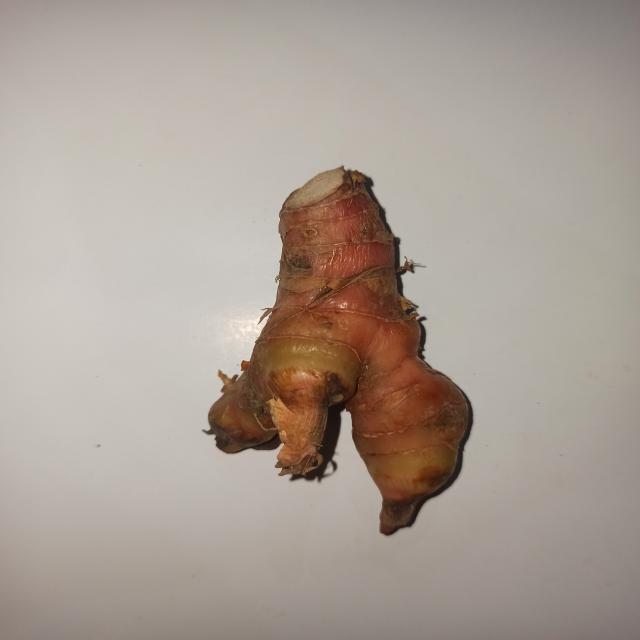ginger: (207, 170, 478, 522)
